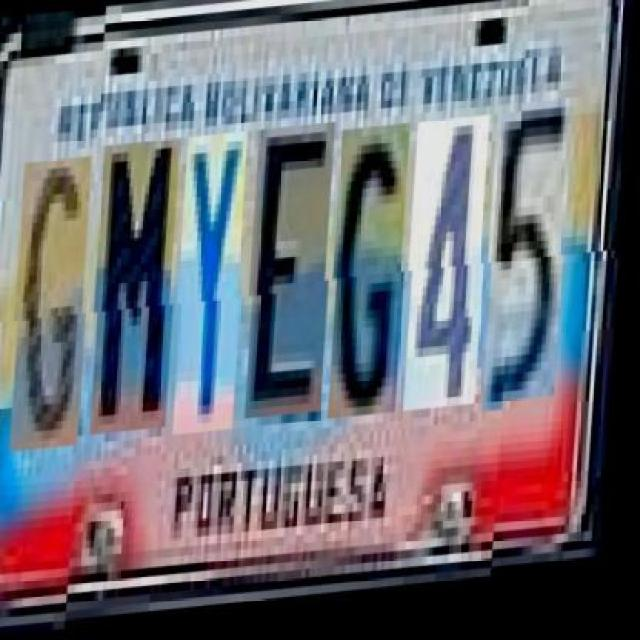4: (409, 125, 496, 420)
5: (489, 119, 576, 423)
e: (250, 128, 342, 426)
g: (16, 148, 99, 444), (334, 131, 417, 427)
m: (96, 140, 186, 438)
y: (178, 136, 254, 439)
